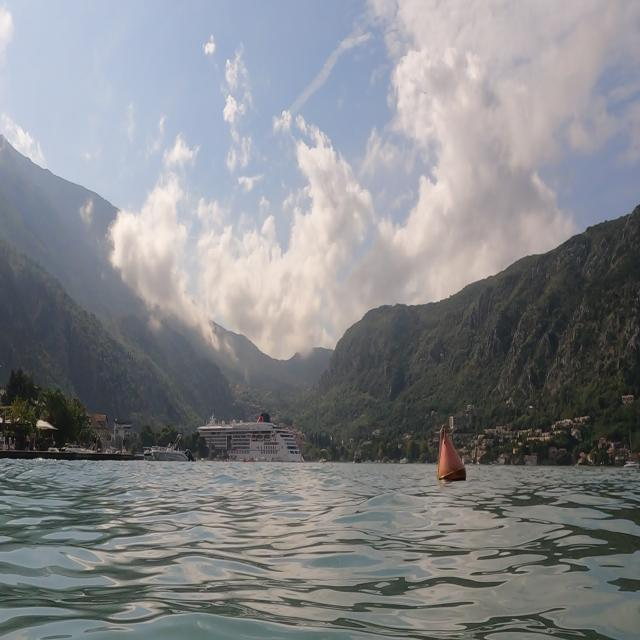boat: (195, 409, 310, 471), (138, 428, 193, 469)
buoy: (434, 421, 469, 491)
